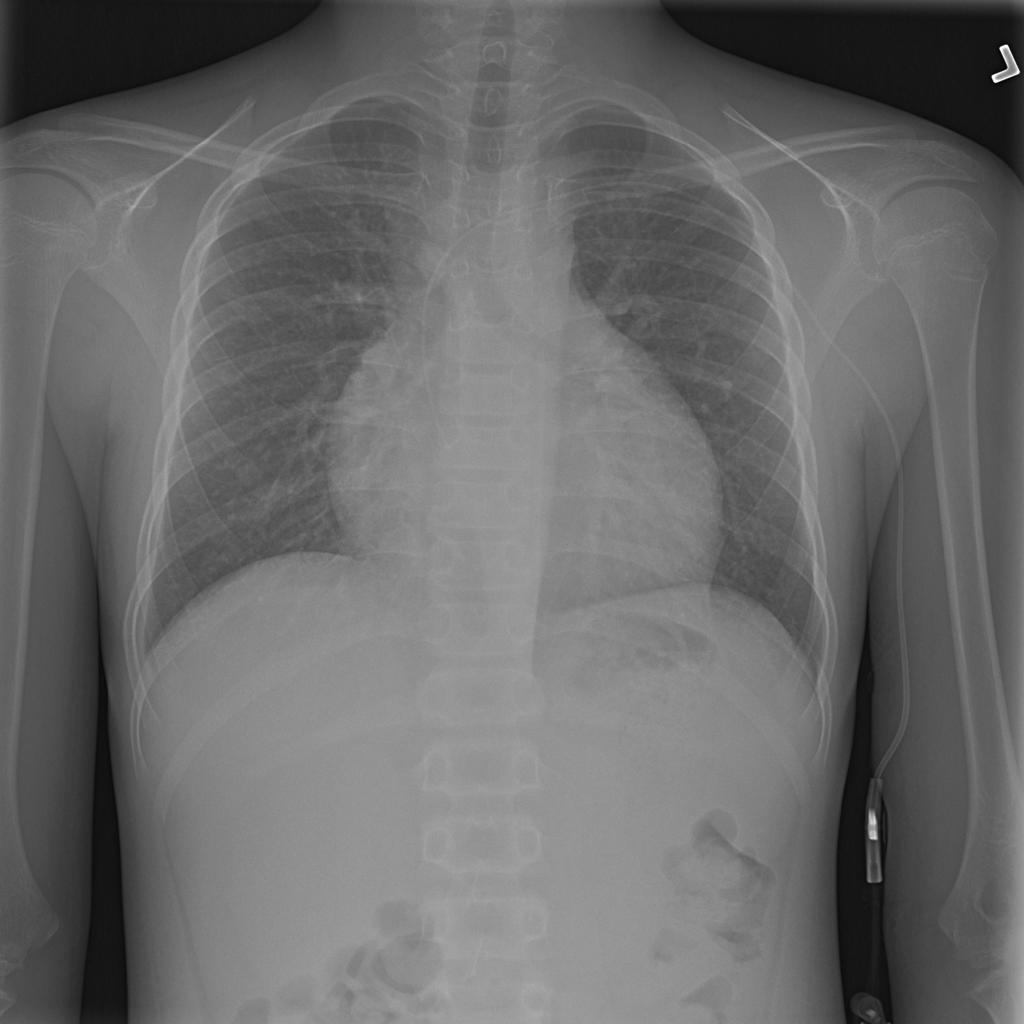Cardiomegaly: (334, 282, 728, 639)
